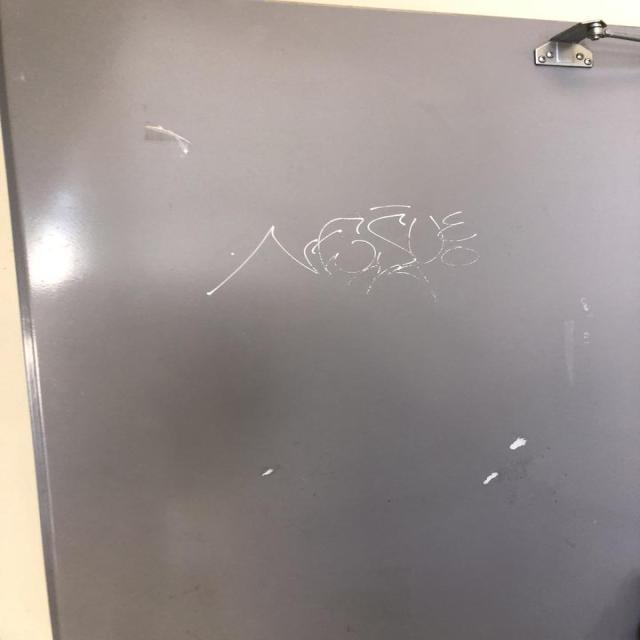nonspitting: (205, 202, 479, 294)
